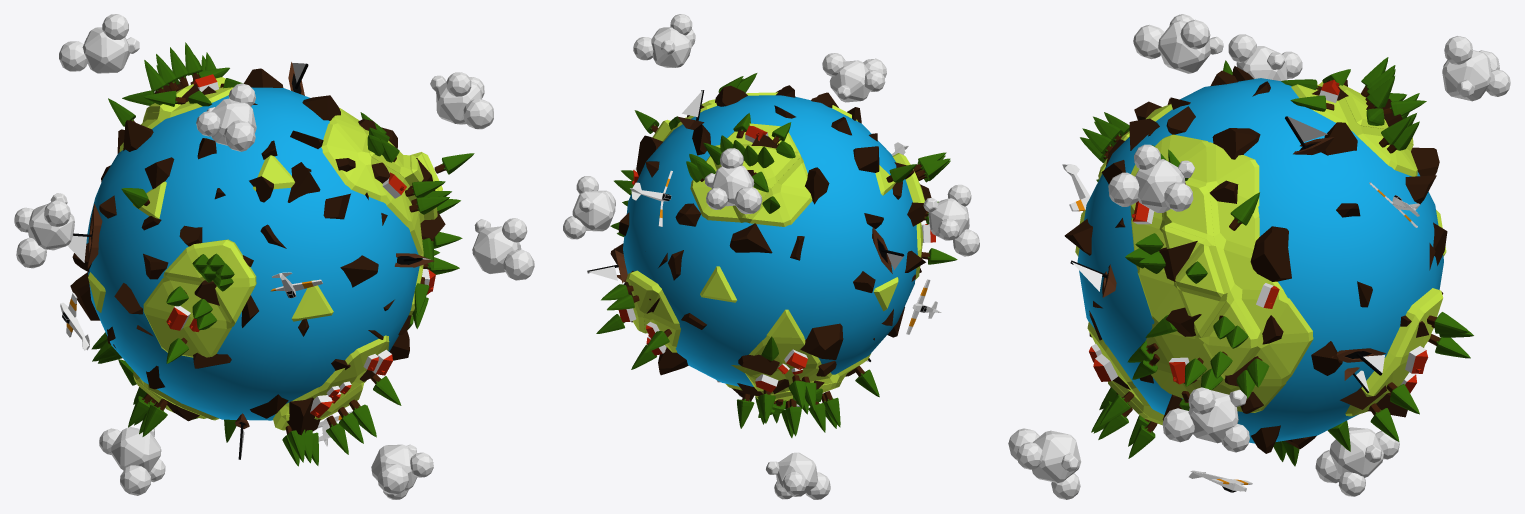
Rendered from 2st_state_earth.fbx.
3 views of the same model, side by side, from view 1: azimuth 30°, elevation 25°; view 2: azimuth 150°, elevation 25°; view 3: azimuth 270°, elevation 25° (orthographic). The views are drawn at different scales.
Visible parts, largest first — view 1: woda, ziemia, Icosphere.001, Icosphere, Icosphere.002, Icosphere.003, Icosphere.006, Icosphere.004, Icosphere.005, Plane.090, ziemia_cell.014, ziemia_cell.102 (+5 smaller); view 2: woda, ziemia, Icosphere.001, Icosphere, Icosphere.006, Icosphere.004, Icosphere.003, Icosphere.002, ziemia_cell.189, ziemia_cell.180, ziemia_cell.118, Plane.090 (+8 smaller); view 3: woda, ziemia, Icosphere.004, Icosphere.003, Icosphere.005, Icosphere.002, Icosphere.006, Icosphere.001, Icosphere, ziemia_cell.086, ziemia_cell.151, Plane.091 (+17 smaller).
Part boxes in pixels (bbox=[...]): woda: bbox=[86, 87, 419, 420]; ziemia: bbox=[88, 77, 442, 430]; Icosphere.001: bbox=[59, 14, 139, 73]; Icosphere: bbox=[14, 193, 74, 268]; Icosphere.002: bbox=[99, 426, 165, 495]; Icosphere.003: bbox=[472, 218, 534, 280]; Icosphere.006: bbox=[196, 83, 256, 151]; Icosphere.004: bbox=[430, 72, 493, 129]; Icosphere.005: bbox=[371, 444, 433, 499]; Plane.090: bbox=[67, 203, 102, 268]; ziemia_cell.014: bbox=[287, 397, 320, 435]; ziemia_cell.102: bbox=[287, 162, 320, 202]; woda: bbox=[623, 95, 917, 386]; ziemia: bbox=[626, 92, 924, 401]; Icosphere.001: bbox=[704, 148, 762, 214]; Icosphere: bbox=[923, 184, 979, 256]; Icosphere.006: bbox=[822, 53, 886, 102]; Icosphere.004: bbox=[633, 14, 695, 67]; Icosphere.003: bbox=[563, 176, 615, 239]; Icosphere.002: bbox=[766, 452, 830, 499]; ziemia_cell.189: bbox=[800, 323, 843, 359]; ziemia_cell.180: bbox=[729, 223, 772, 253]; ziemia_cell.118: bbox=[853, 146, 879, 172]; Plane.090: bbox=[872, 227, 904, 273]; woda: bbox=[1077, 78, 1443, 443]; ziemia: bbox=[1075, 81, 1446, 425]; Icosphere.004: bbox=[1108, 144, 1194, 212]; Icosphere.003: bbox=[1162, 387, 1249, 452]; Icosphere.005: bbox=[1008, 428, 1081, 499]; Icosphere.002: bbox=[1315, 427, 1399, 496]; Icosphere.006: bbox=[1133, 14, 1223, 73]; Icosphere.001: bbox=[1442, 36, 1510, 101]; Icosphere: bbox=[1228, 34, 1302, 80]; ziemia_cell.086: bbox=[1250, 226, 1291, 281]; ziemia_cell.151: bbox=[1212, 128, 1260, 159]; Plane.091: bbox=[1285, 116, 1334, 154].
Bounding box in the file's own units: 5.97 × 5.3 × 4.98.
